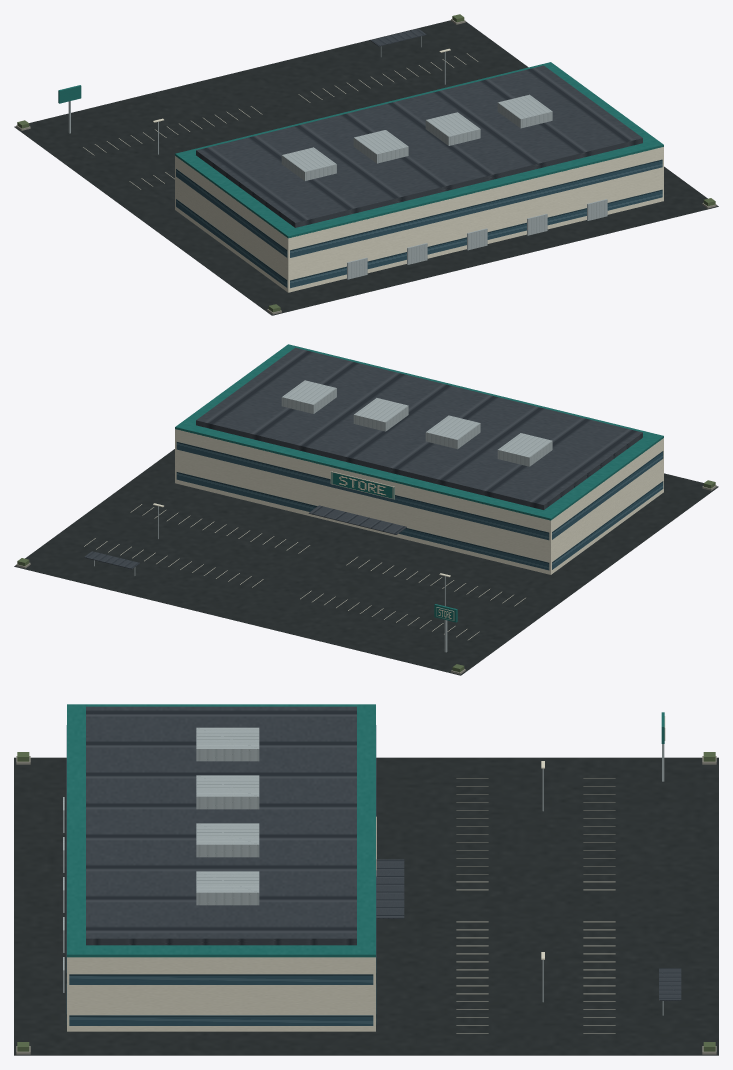
File: shopping_mall_001.lod1.obj
3 views of the same model, one above another, from view 1: azimuth 30°, elevation 25°; view 2: azimuth 150°, elevation 25°; view 3: azimuth 270°, elevation 25° (orthographic). The views are drawn at different scales.
Visible parts, largest first — view 1: shopping_mall_001.lod1; view 2: shopping_mall_001.lod1; view 3: shopping_mall_001.lod1.
Part boxes in pixels (left/top/right/bottom): shopping_mall_001.lod1: left=14, top=14, right=718, bottom=315; shopping_mall_001.lod1: left=14, top=344, right=718, bottom=675; shopping_mall_001.lod1: left=14, top=704, right=718, bottom=1055.
Size of the model in its own units: 112 by 16.9 by 112.
Materials: 1 (1 with a texture image).
